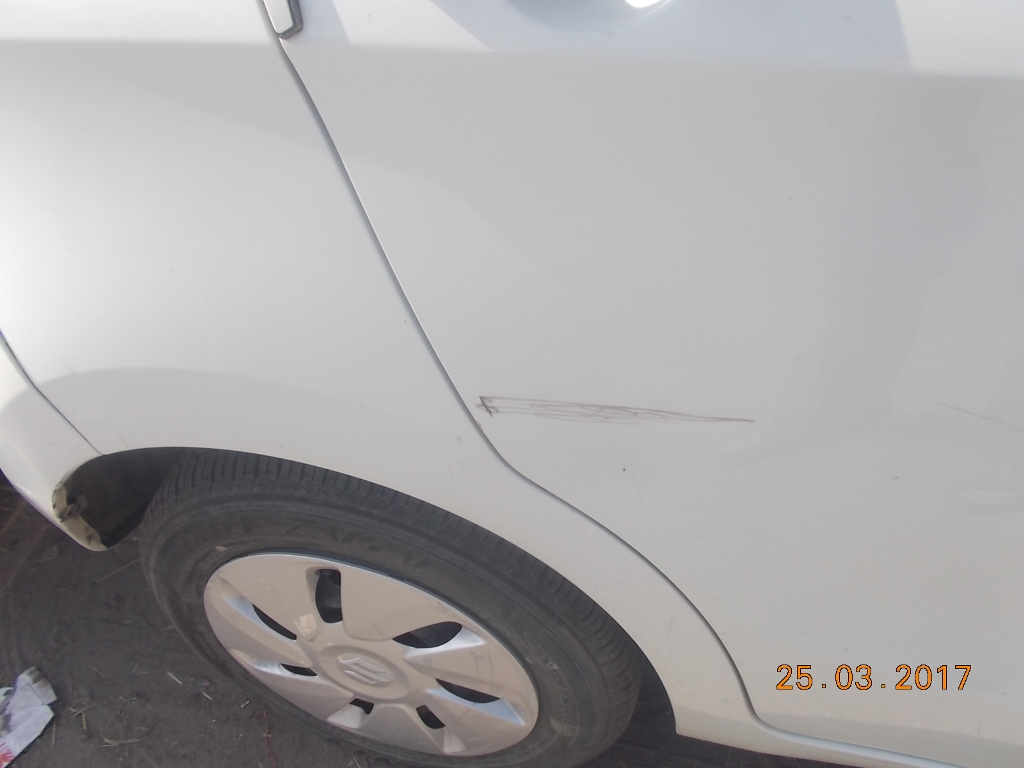Scratch_or_spot: (477, 382, 750, 445)
